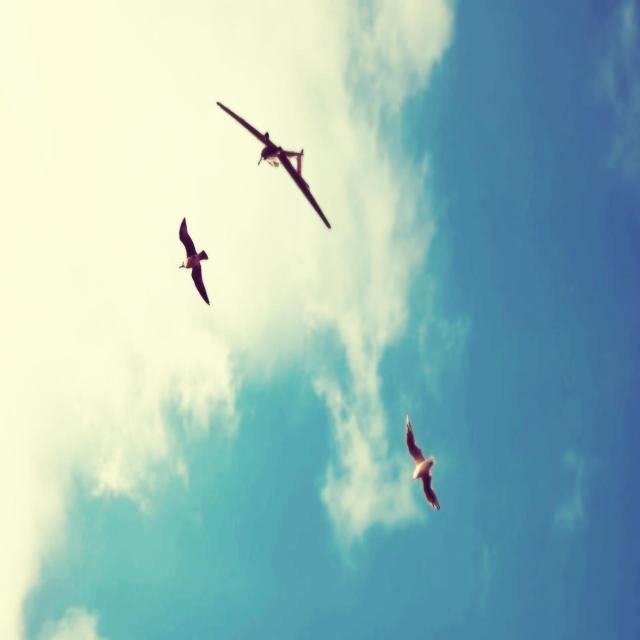airplane: (216, 100, 331, 230)
